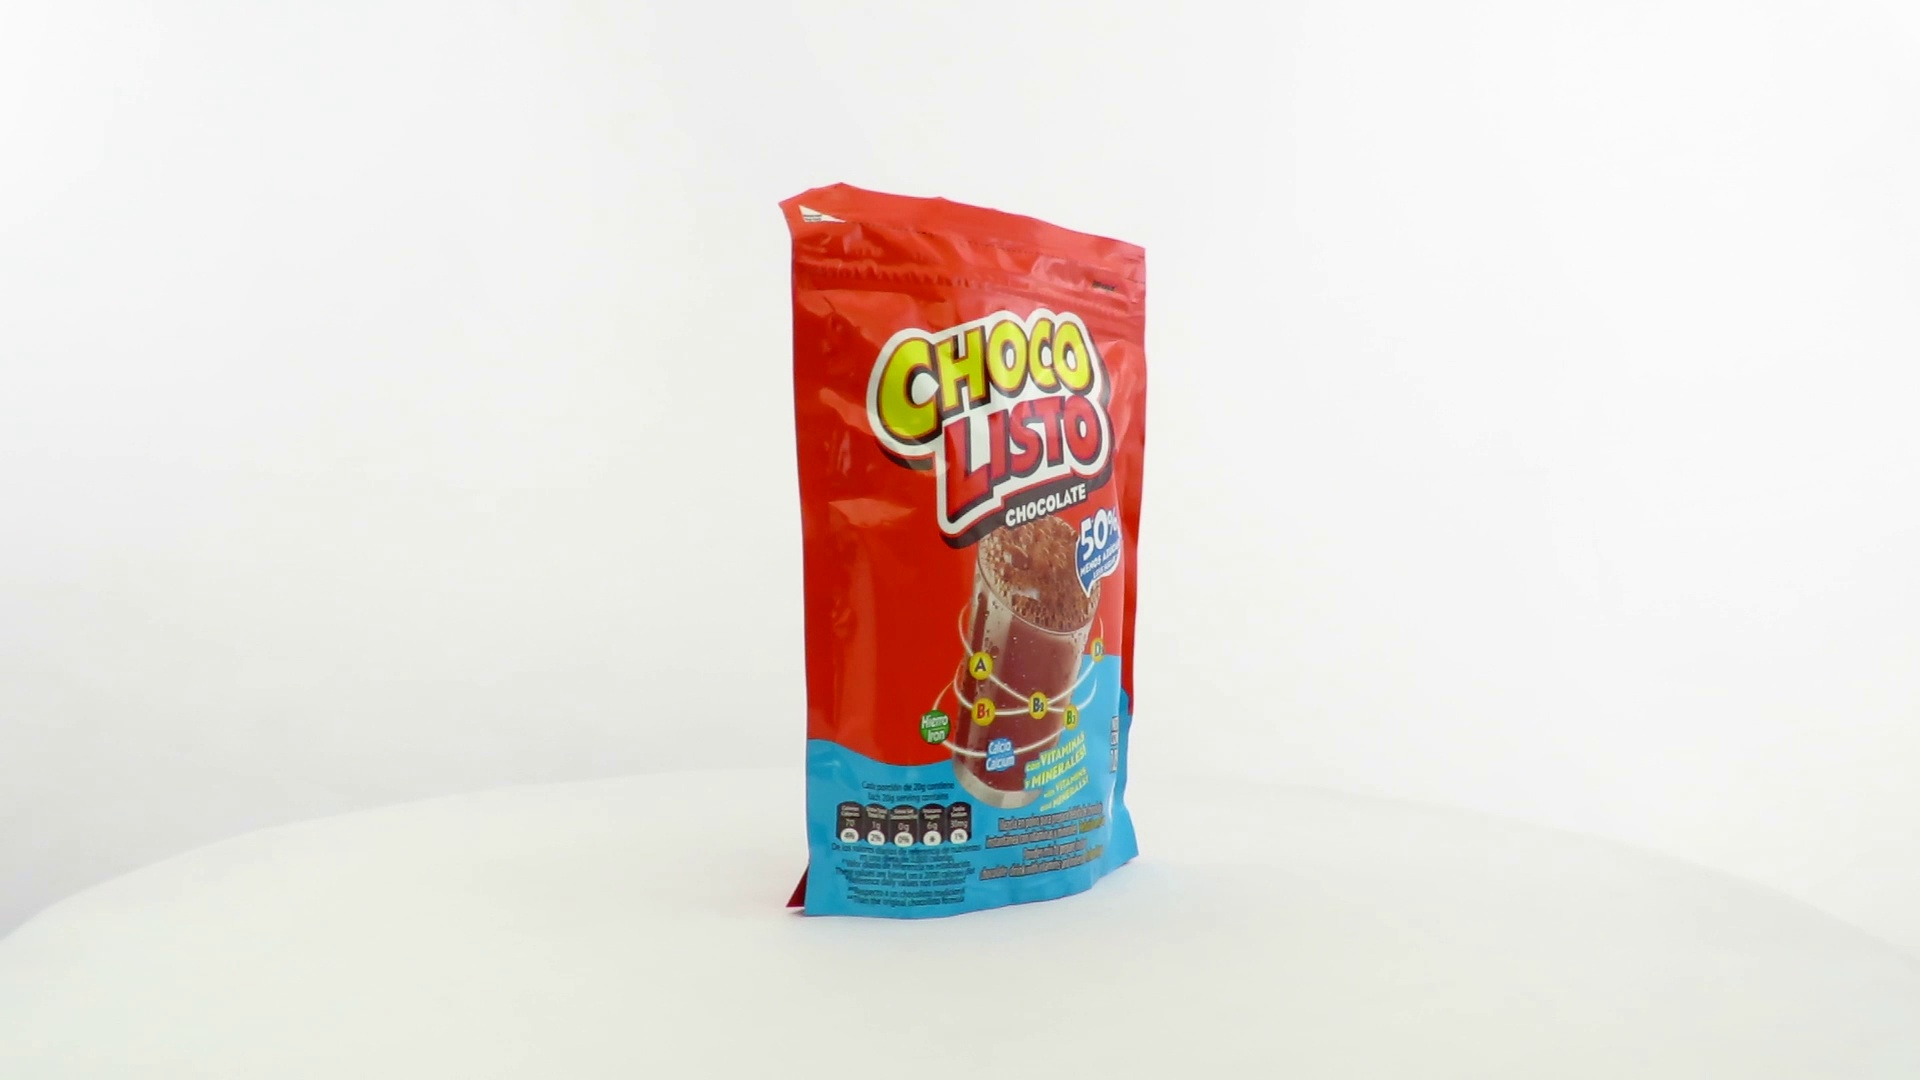COL0170104DYP20000: (773, 177, 1153, 926)
